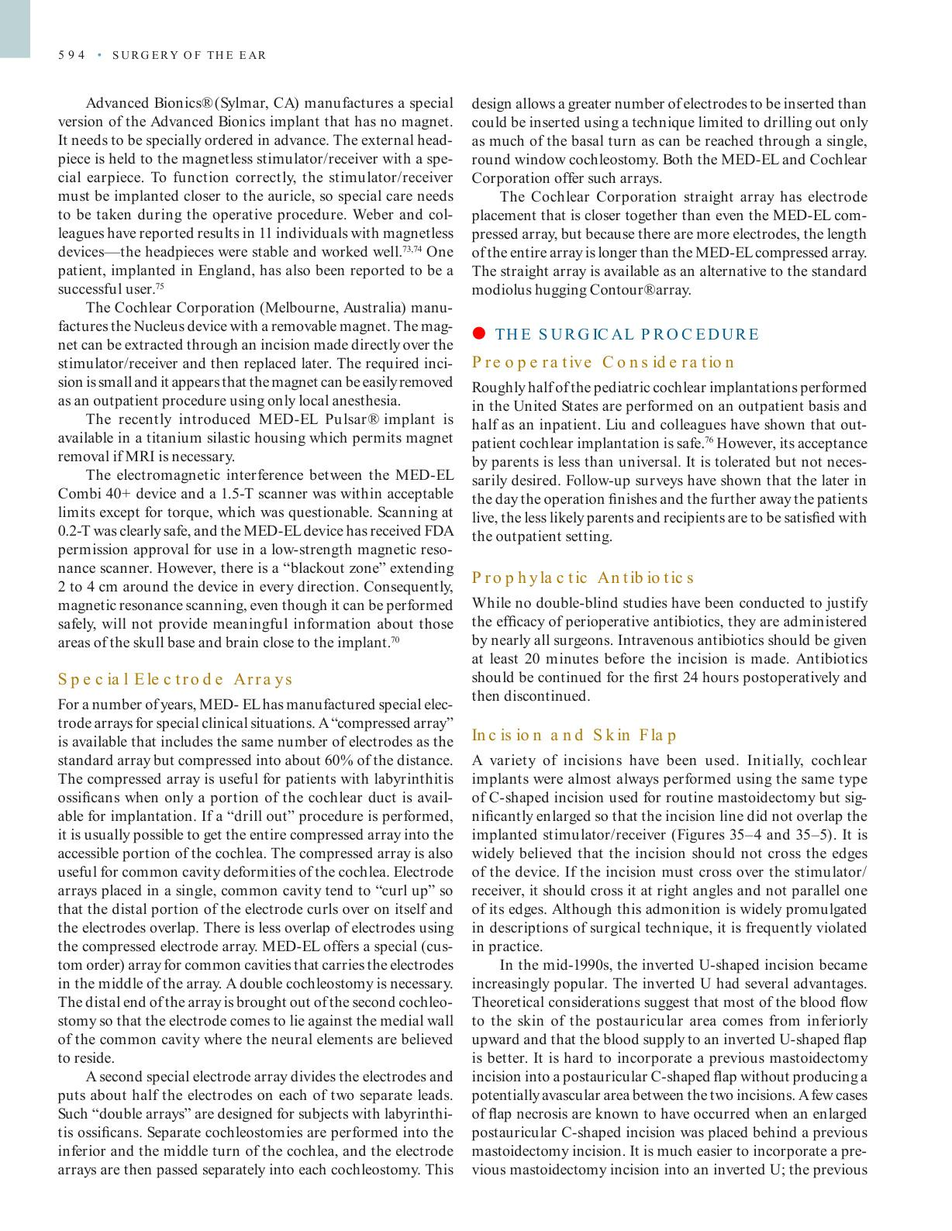header: (111, 49, 266, 60)
section-heading: (494, 327, 760, 342)
sub-section-heading: (471, 354, 734, 372), (57, 671, 293, 690), (471, 569, 695, 588), (469, 726, 678, 745)
text: (55, 94, 457, 653), (54, 694, 457, 1181), (469, 749, 871, 1179), (466, 94, 871, 300), (470, 378, 871, 547), (471, 594, 871, 704)
